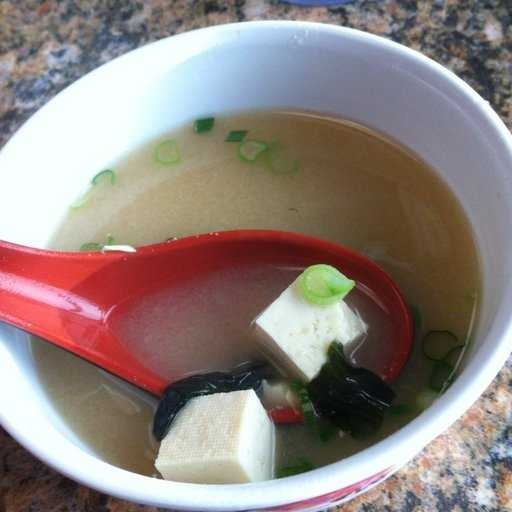soup: (10, 78, 485, 462)
